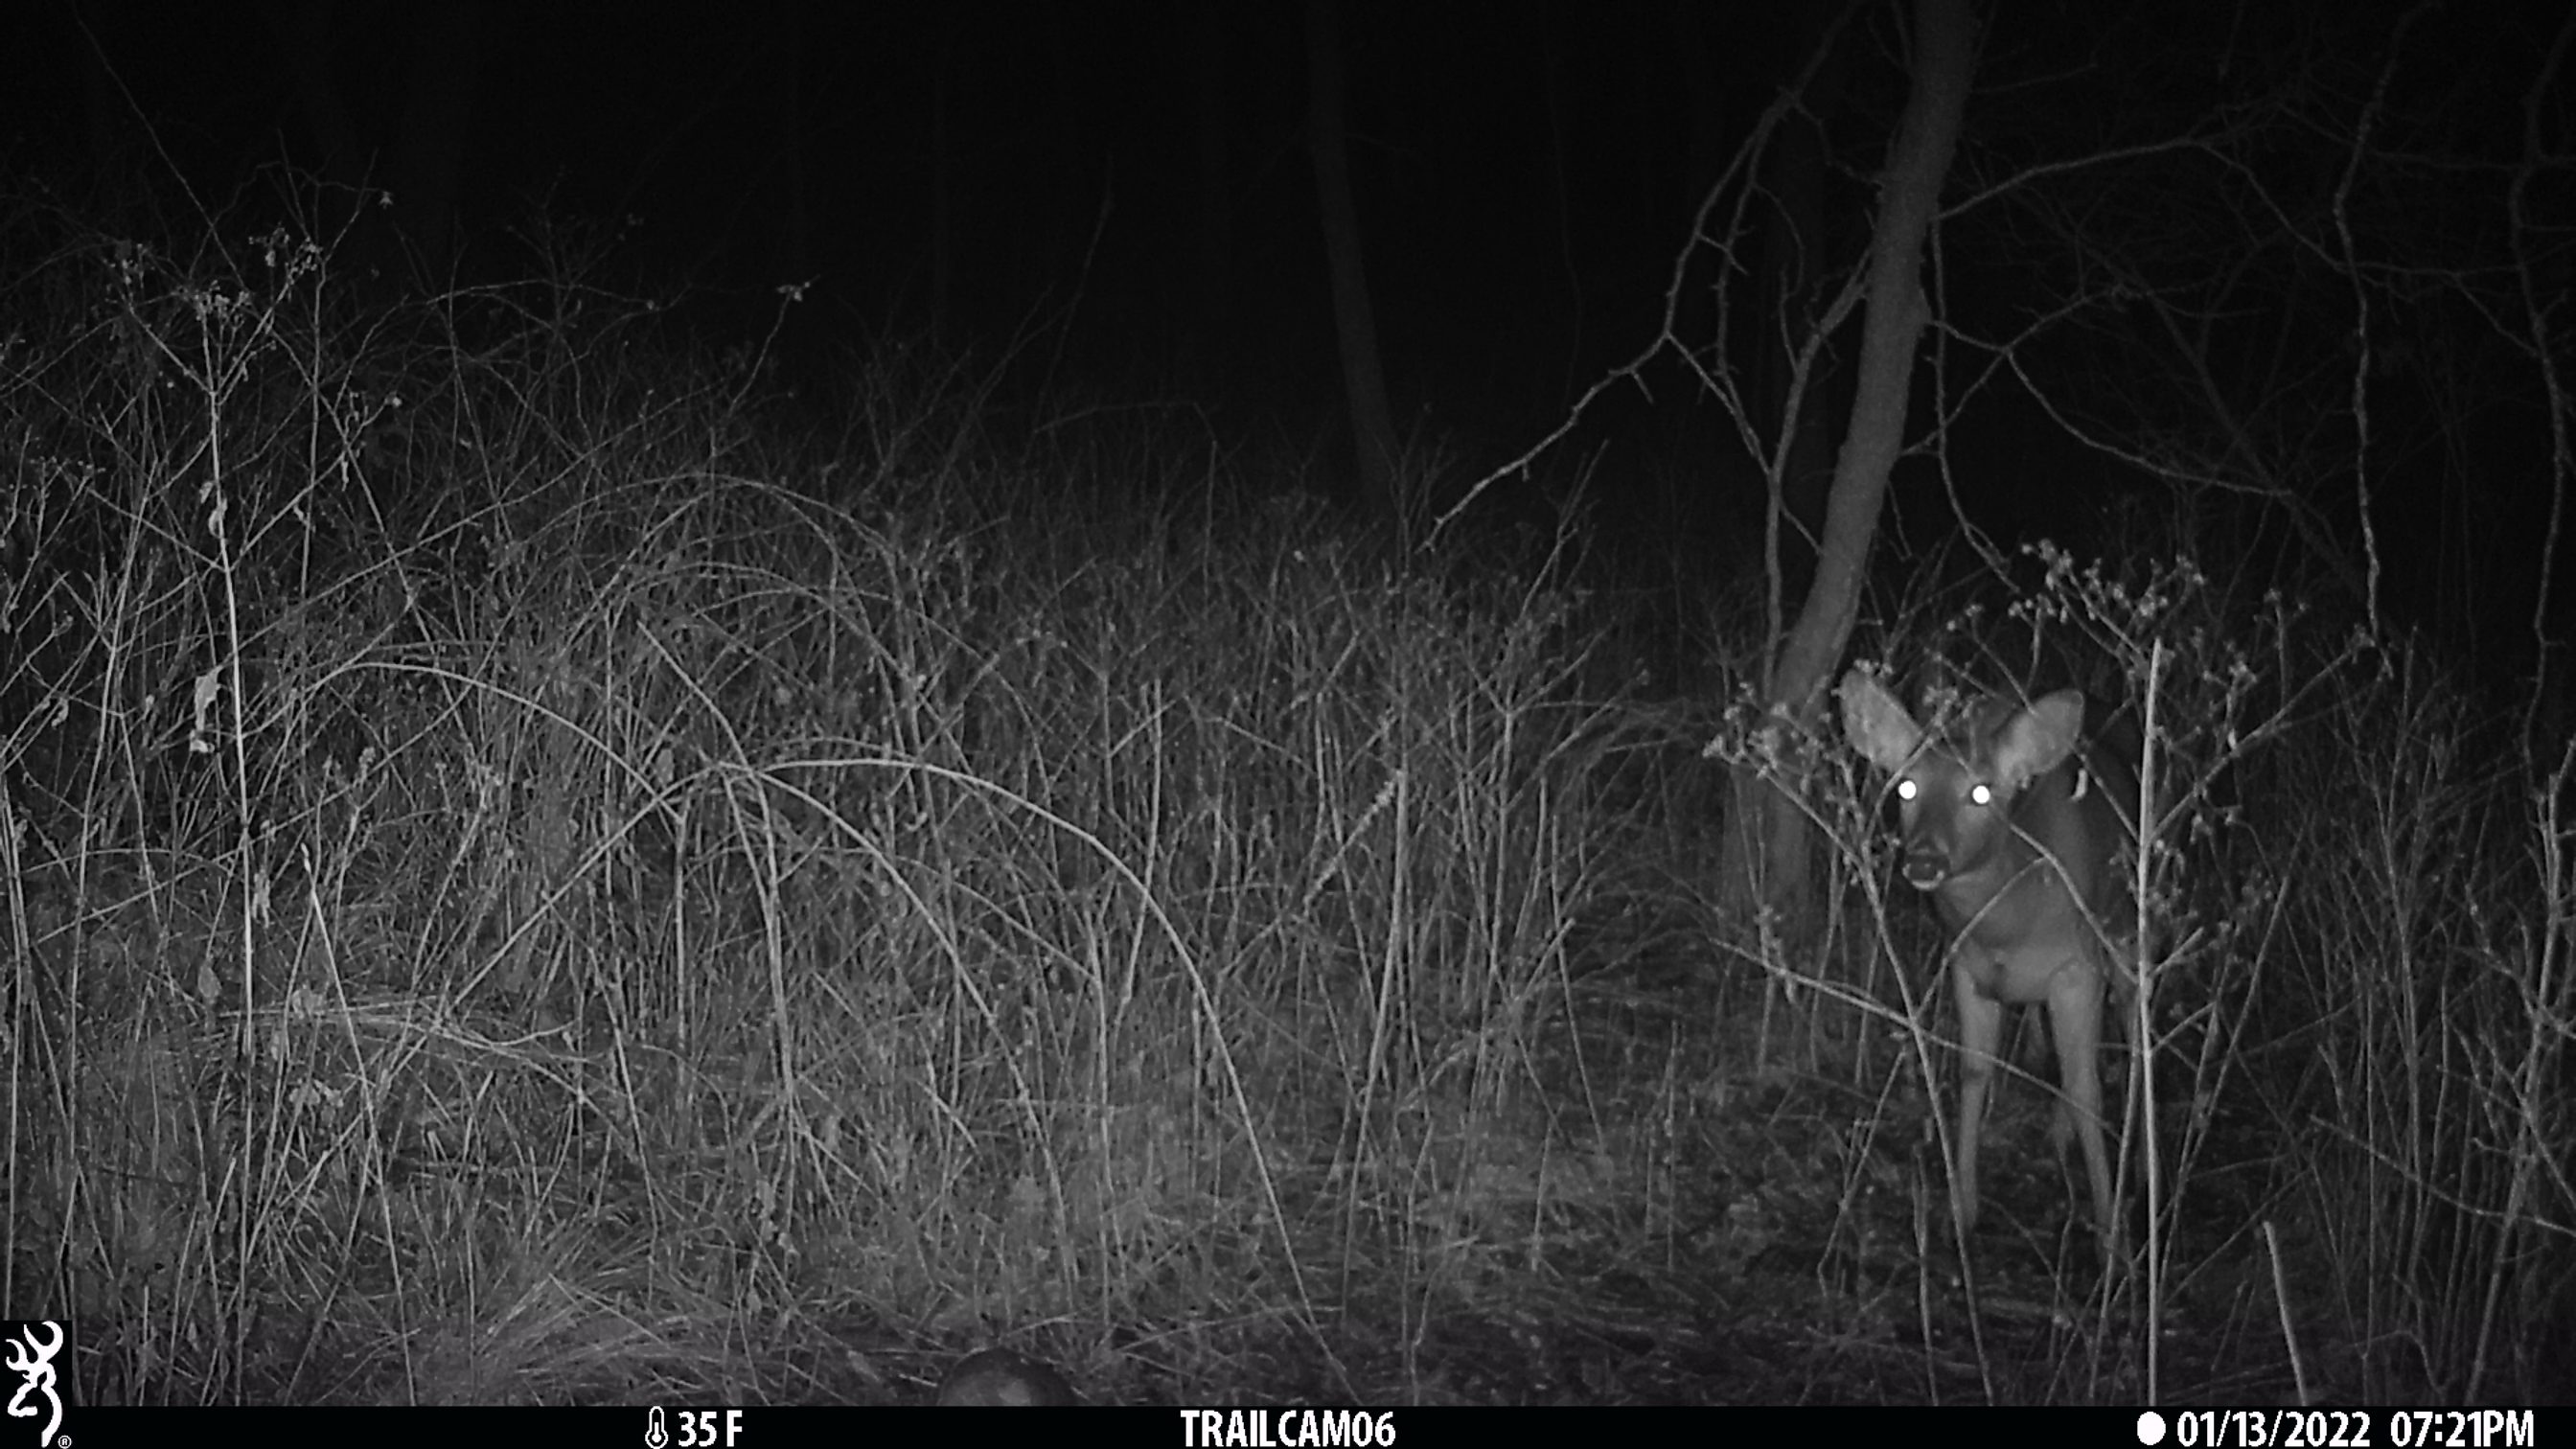DeerDoe: (1842, 665, 2144, 1247)
